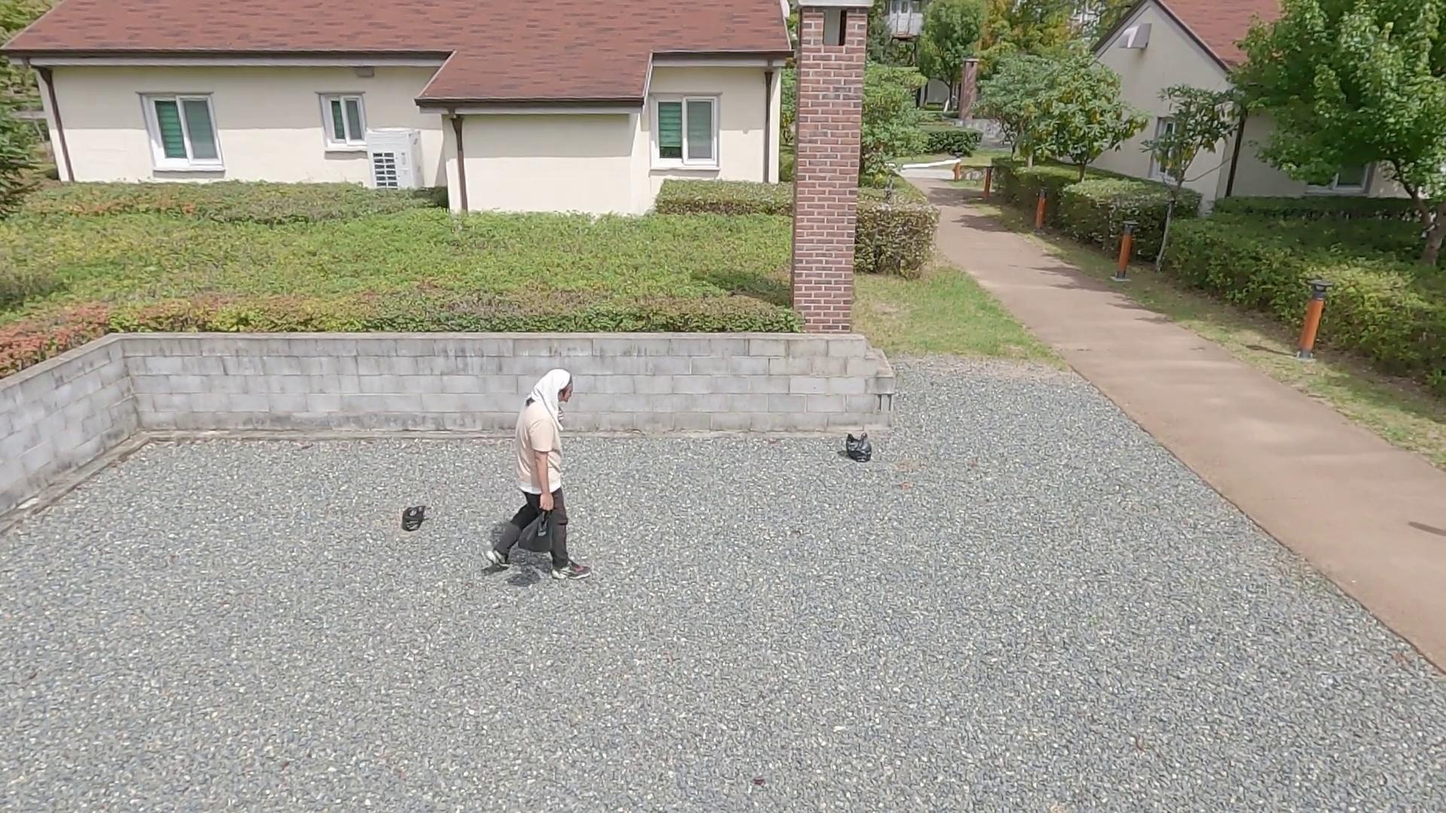person: (485, 368, 593, 583)
trash: (518, 508, 556, 553), (845, 434, 872, 462), (403, 503, 427, 530)
